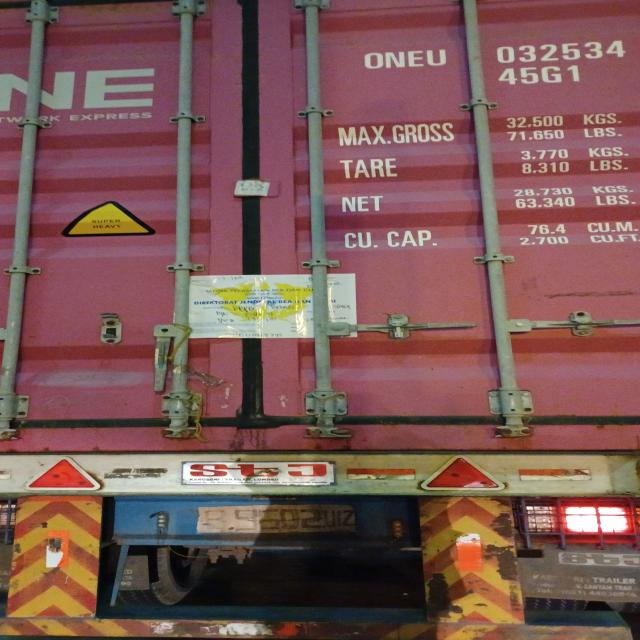seal: (388, 318, 408, 340)
